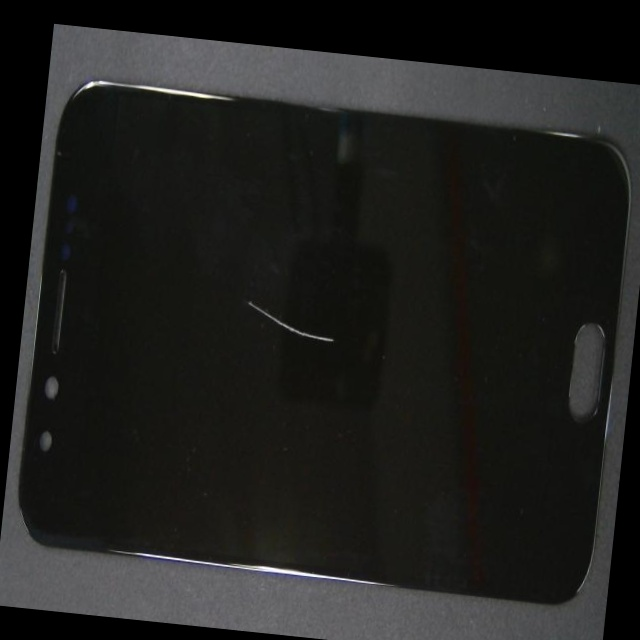scratch: (220, 209, 463, 468)
